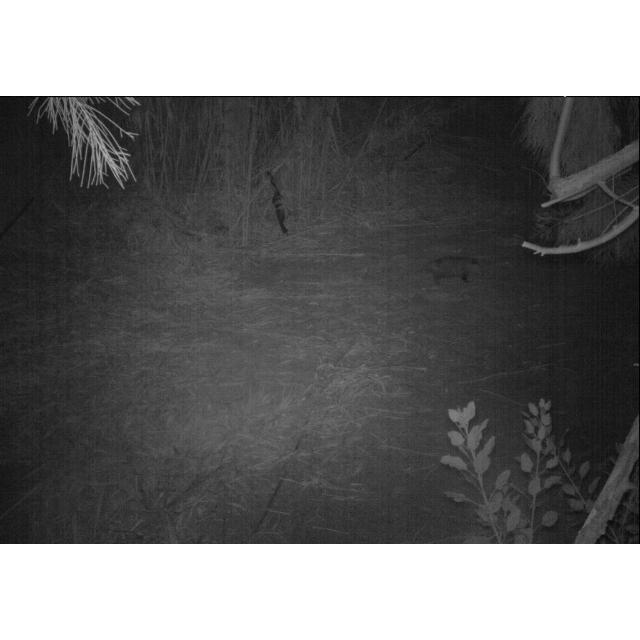animals: (424, 250, 488, 284)
